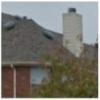chimneys: (62, 6, 84, 58)
